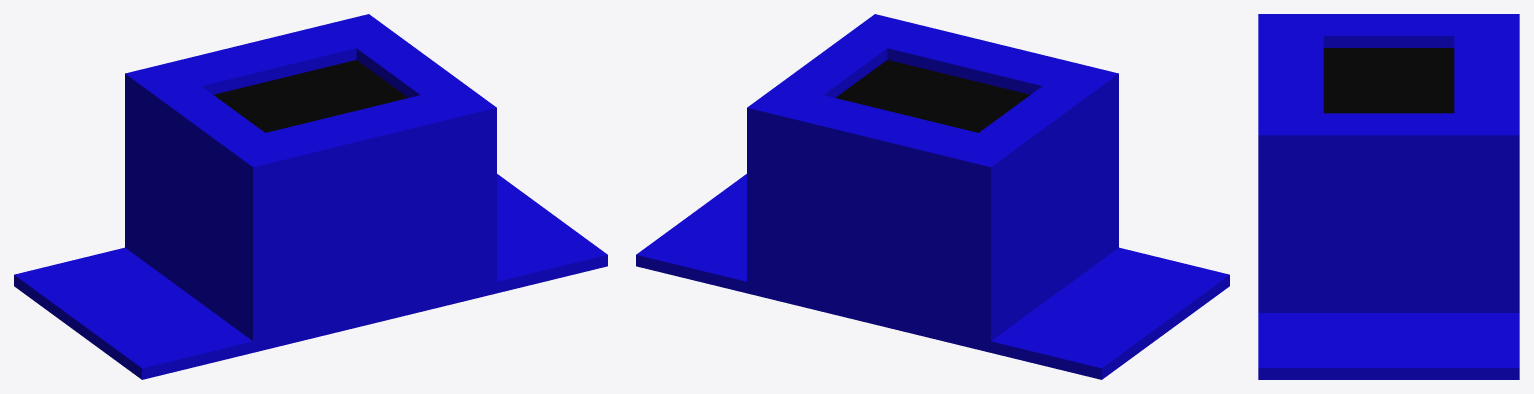
File: SolarRadiationSensor.glb
3 views of the same model, side by side, from view 1: azimuth 30°, elevation 25°; view 2: azimuth 150°, elevation 25°; view 3: azimuth 270°, elevation 25° (orthographic).
Parts seen in each view (by area): view 1: solerraditationsencor; view 2: solerraditationsencor; view 3: solerraditationsencor.
Boxes of the visible parts, bbox=[...] form: solerraditationsencor: bbox=[14, 14, 607, 379]; solerraditationsencor: bbox=[636, 14, 1229, 379]; solerraditationsencor: bbox=[1258, 14, 1519, 379].
Size of the model in its own units: 0.21 by 0.08 by 0.1.
